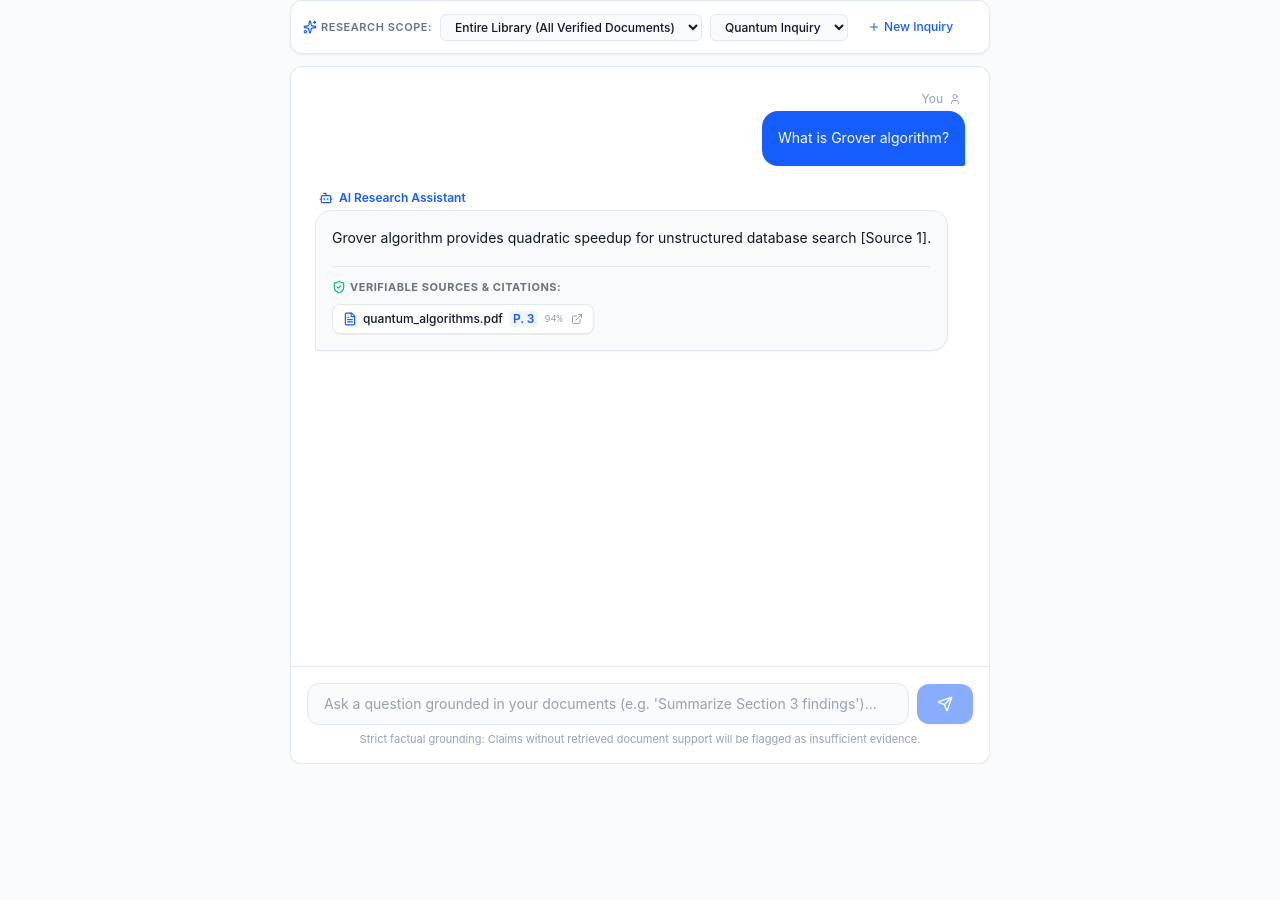
Test: WorkspacePage Chat and Citations › opens split PDF viewer on page 3 when clicking citation badge
Expected: the text "quantum_algorithms.pdf" is shown, 363,311 -> 503,327
Note: Click citation badge
Click the button "quantum_algorithms.pdf P. 3 94%": click(463, 319) 332,304 -> 594,334
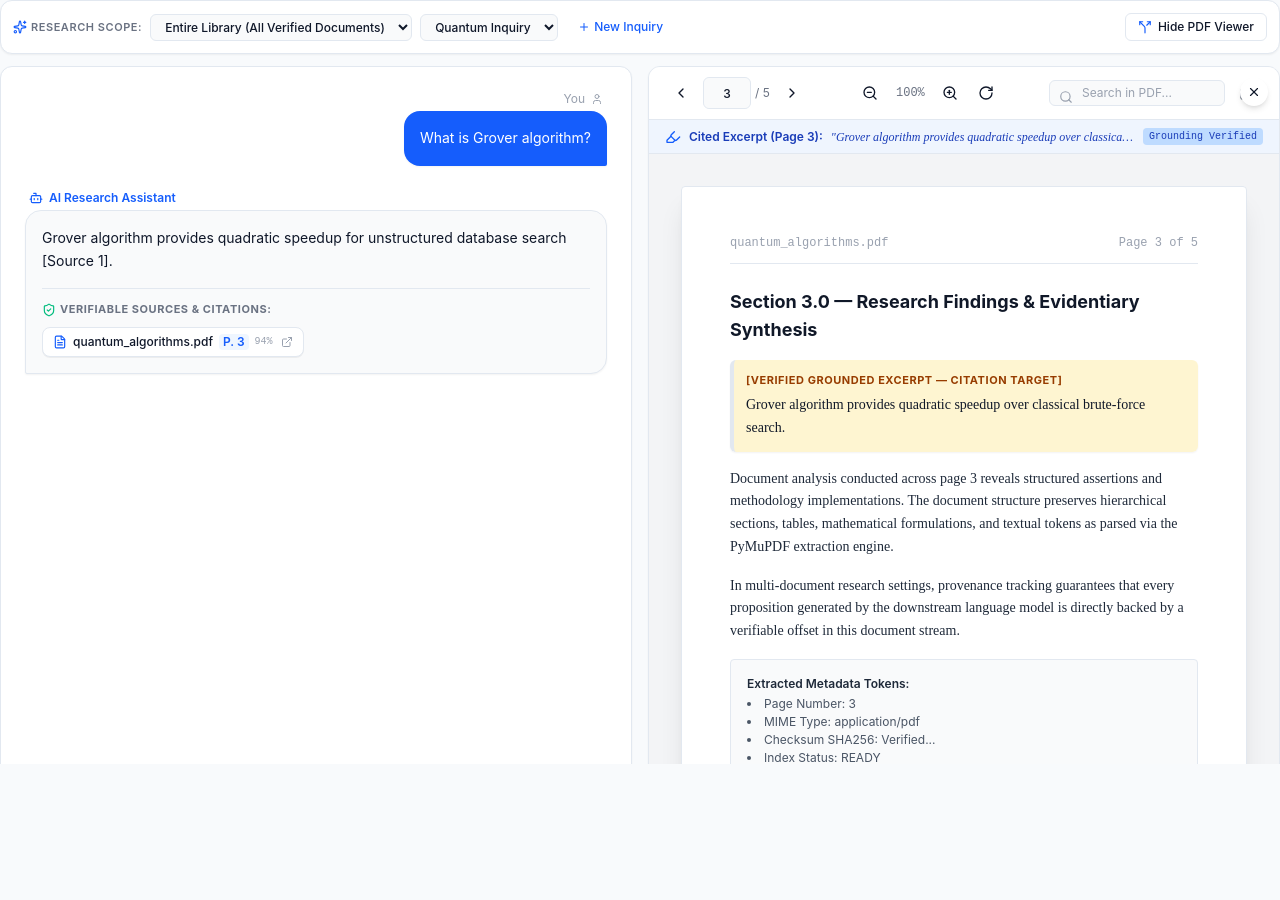
Expected: the text "Cited Excerpt (Page 3):" is shown, 689,129 -> 823,145
